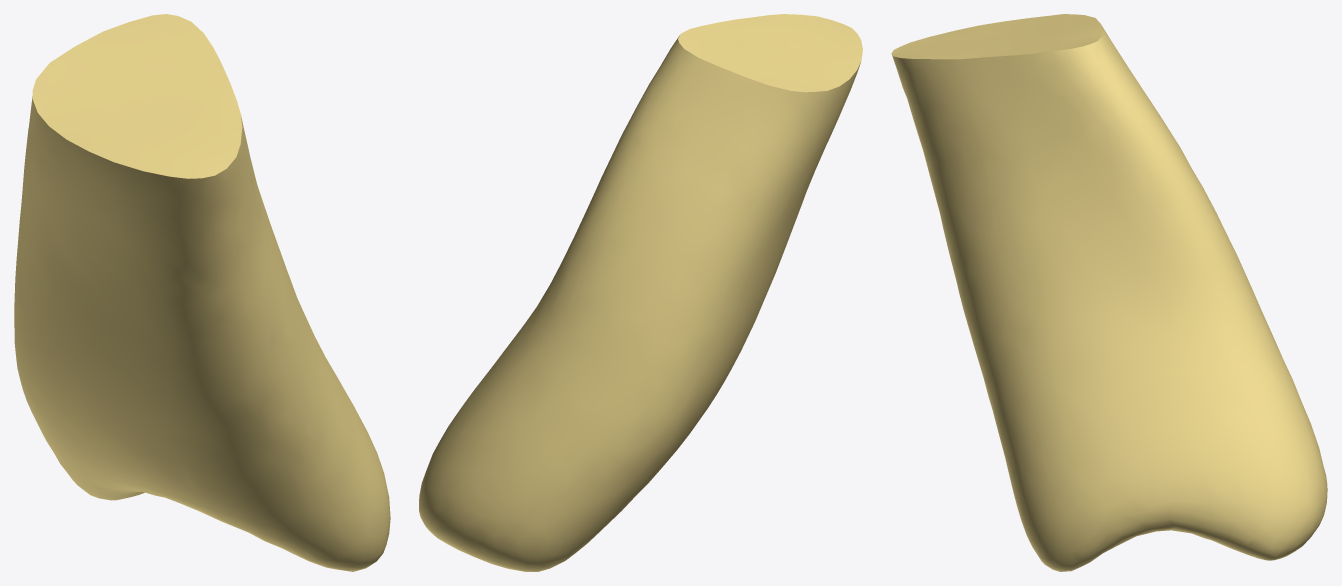
The model's file is fma73871_mm3417m.glb.
3 views of the same model, side by side, from view 1: azimuth 30°, elevation 25°; view 2: azimuth 150°, elevation 25°; view 3: azimuth 270°, elevation 25° (orthographic). The views are drawn at different scales.
Visible parts, largest first — view 1: FMA73871_MM3417M; view 2: FMA73871_MM3417M; view 3: FMA73871_MM3417M.
Part boxes in pixels (x1,y1,x2,y2): FMA73871_MM3417M: [14, 14, 390, 571]; FMA73871_MM3417M: [419, 14, 862, 571]; FMA73871_MM3417M: [891, 14, 1327, 571].
Size of the model in its own units: 0.00412 by 0.00612 by 0.00527.
